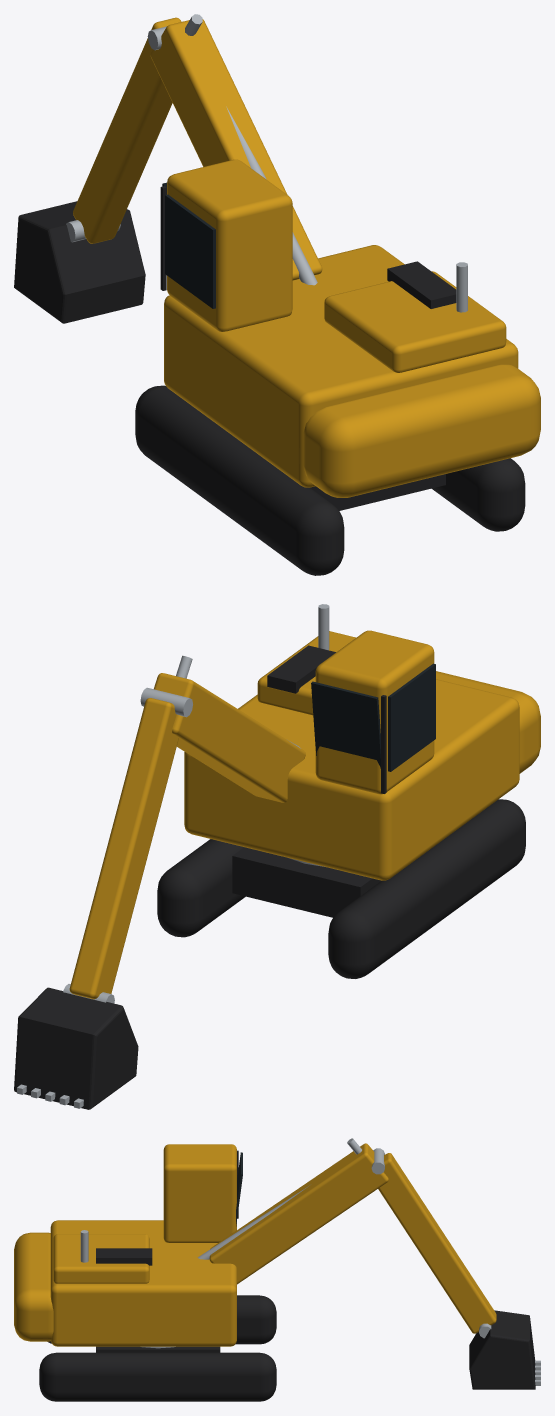
The model's file is EXCAVATOR.glb.
3 views of the same model, one above another, from view 1: azimuth 30°, elevation 25°; view 2: azimuth 150°, elevation 25°; view 3: azimuth 270°, elevation 25° (orthographic). The views are drawn at different scales.
Visible parts, largest first — view 1: paint_2, tread_0, glass_3, steel_1; view 2: paint_2, tread_0, glass_3, steel_1; view 3: paint_2, tread_0, steel_1.
Part boxes in pixels (x1,y1,x2,y2): paint_2: (73, 17, 540, 497); tread_0: (14, 186, 525, 575); glass_3: (162, 182, 215, 308); steel_1: (66, 14, 467, 312); paint_2: (69, 630, 540, 999); tread_0: (14, 645, 525, 1109); glass_3: (311, 663, 435, 771); steel_1: (17, 604, 329, 1108); paint_2: (14, 1143, 496, 1346); tread_0: (39, 1150, 535, 1401); steel_1: (80, 1138, 540, 1385).
Size of the model in its own units: 3 by 4.66 by 9.33.
